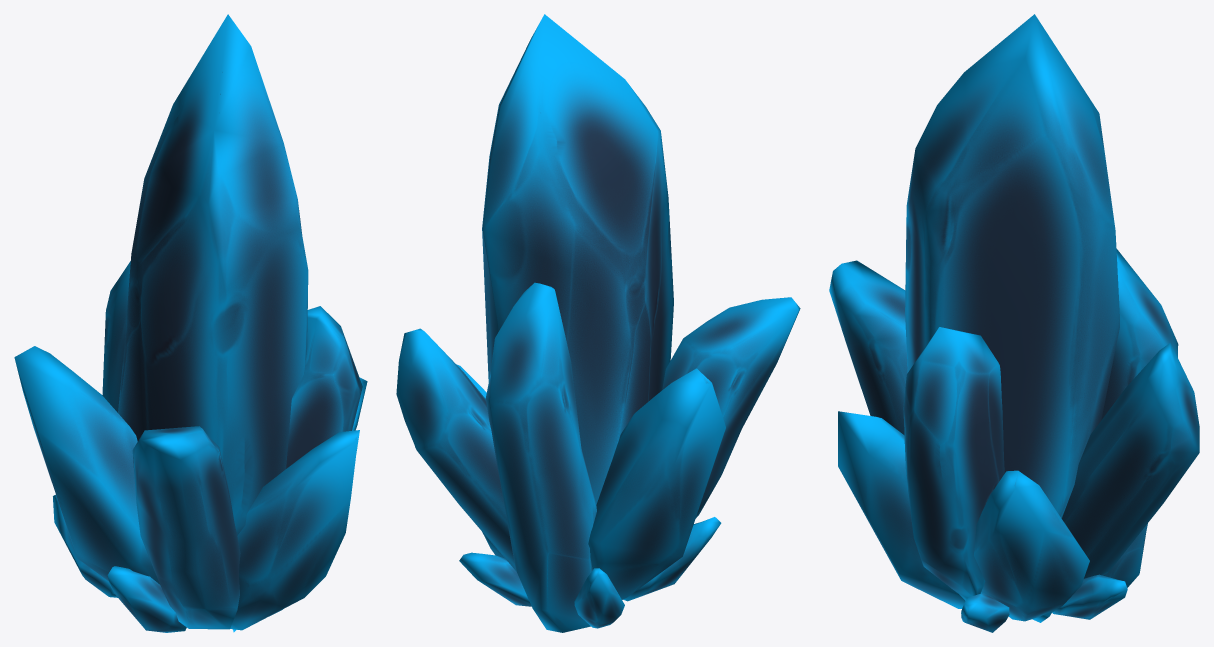
Rendered from Crystal01.fbx.
3 views of the same model, side by side, from view 1: azimuth 30°, elevation 25°; view 2: azimuth 150°, elevation 25°; view 3: azimuth 270°, elevation 25° (orthographic). The views are drawn at different scales.
Visible parts, largest first — view 1: Crystal01; view 2: Crystal01; view 3: Crystal01.
Part boxes in pixels (box(x1,y1,x2,y2)): Crystal01: box(14, 14, 367, 632); Crystal01: box(396, 14, 800, 632); Crystal01: box(829, 14, 1199, 632).
Size of the model in its own units: 80.13 by 141 by 76.8.
